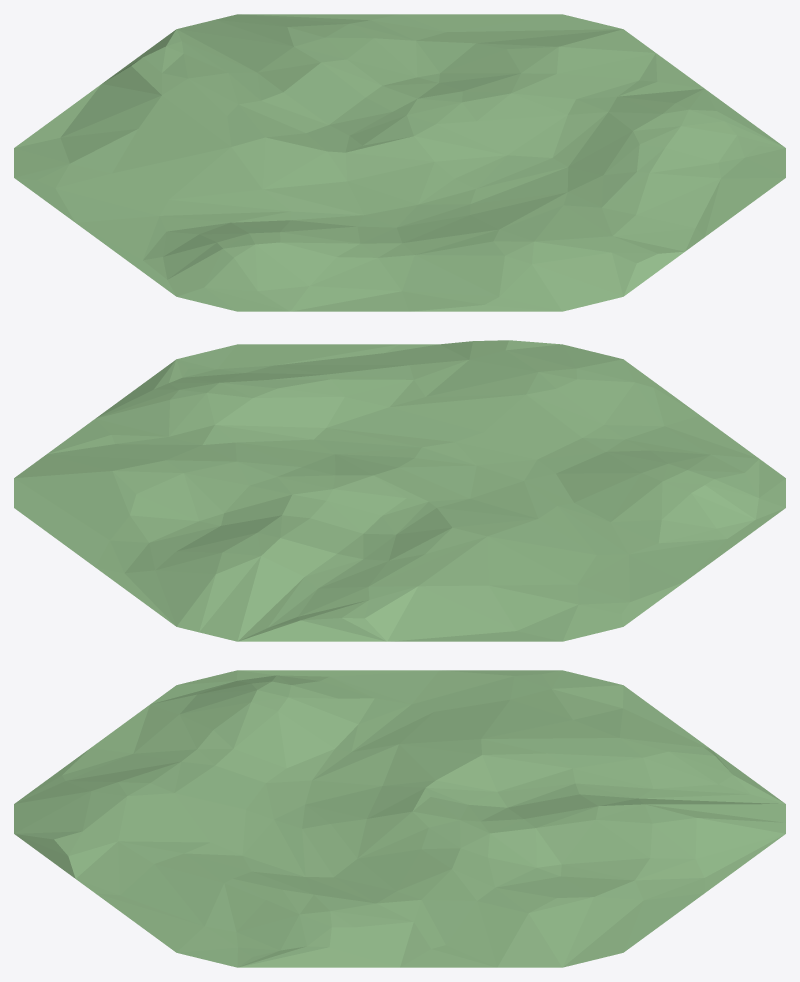
The model's file is Hex.L1.fbx.
3 views of the same model, one above another, from view 1: azimuth 30°, elevation 25°; view 2: azimuth 150°, elevation 25°; view 3: azimuth 270°, elevation 25° (orthographic).
Parts seen in each view (by area): view 1: Hex_L1_1; view 2: Hex_L1_1; view 3: Hex_L1_1.
Boxes of the visible parts, x1,y1,x2,y2 form: Hex_L1_1: [14, 14, 785, 311]; Hex_L1_1: [14, 340, 785, 641]; Hex_L1_1: [14, 670, 785, 967].
Bounding box in the file's own units: 1.12 × 1.23 × 0.0426.
